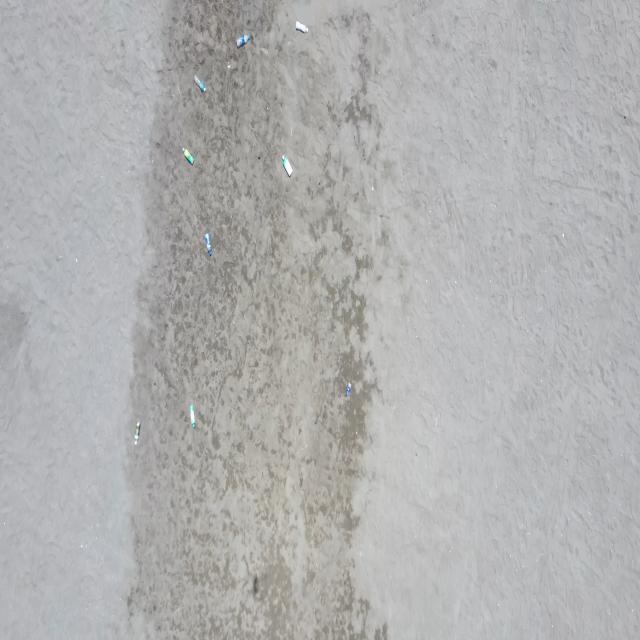plastic-bottle: (282, 154, 294, 178), (193, 73, 206, 92), (183, 146, 195, 166), (235, 34, 251, 49), (295, 20, 308, 35), (189, 404, 196, 430), (205, 232, 212, 257), (134, 421, 141, 445), (345, 381, 352, 398)
